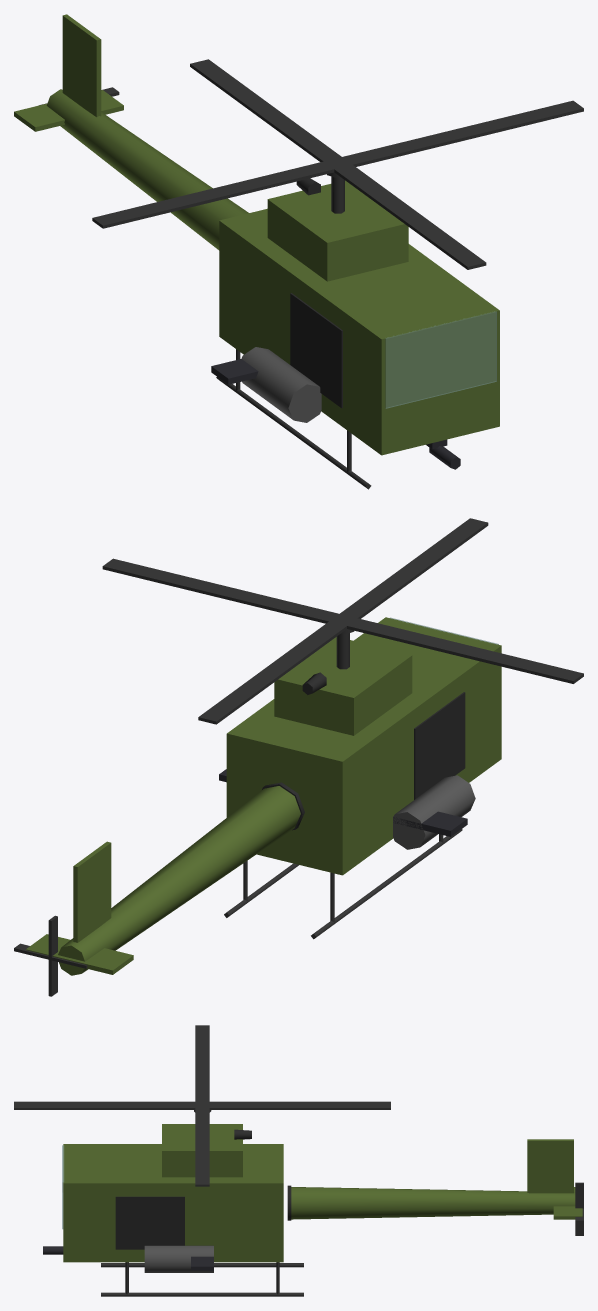
File: uh1c-gunship.glb
3 renders of one model, top to bottom at view 1: azimuth 30°, elevation 25°; view 2: azimuth 150°, elevation 25°; view 3: azimuth 270°, elevation 25°, orthographic. The views are drawn at different scales.
Visible parts, largest first — view 1: Mesh_Fuselage, Mesh_EngineCowling, Mesh_CockpitGlass, Mesh_TailBoom, Mesh_MainRotor2, Mesh_MainRotor1, Mesh_DoorLeft, Mesh_RocketPodLeft, Mesh_VerticalFin, Mesh_HorizontalStab, Mesh_SkidLeft, Mesh_PylonLeft; view 2: Mesh_Fuselage, Mesh_TailBoom, Mesh_EngineCowling, Mesh_MainRotor2, Mesh_MainRotor1, Mesh_DoorLeft, Mesh_VerticalFin, Mesh_RocketPodLeft, Mesh_HorizontalStab, Mesh_SkidLeft, Mesh_PylonLeft, Mesh_TailRotor1; view 3: Mesh_Fuselage, Mesh_TailBoom, Mesh_DoorRight, Mesh_EngineCowling, Mesh_MainRotor1, Mesh_VerticalFin, Mesh_MainRotor2, Mesh_RocketPodRight, Mesh_SkidRight, Mesh_SkidLeft, Mesh_HorizontalStab, Mesh_TailRotor1.
Part boxes in pixels (x1=…): Mesh_Fuselage: x1=219, y1=208, x2=499, y2=455; Mesh_EngineCowling: x1=267, y1=180, x2=408, y2=281; Mesh_CockpitGlass: x1=385, y1=311, x2=496, y2=408; Mesh_TailBoom: x1=46, y1=89, x2=248, y2=250; Mesh_MainRotor2: x1=92, y1=100, x2=583, y2=228; Mesh_MainRotor1: x1=190, y1=59, x2=486, y2=269; Mesh_DoorLeft: x1=290, y1=293, x2=342, y2=408; Mesh_RocketPodLeft: x1=241, y1=347, x2=321, y2=422; Mesh_VerticalFin: x1=62, y1=14, x2=101, y2=117; Mesh_HorizontalStab: x1=14, y1=90, x2=123, y2=131; Mesh_SkidLeft: x1=216, y1=377, x2=371, y2=489; Mesh_PylonLeft: x1=211, y1=359, x2=258, y2=384; Mesh_Fuselage: x1=226, y1=617, x2=501, y2=875; Mesh_TailBoom: x1=58, y1=786, x2=300, y2=975; Mesh_EngineCowling: x1=274, y1=637, x2=412, y2=735; Mesh_MainRotor2: x1=102, y1=558, x2=583, y2=683; Mesh_MainRotor1: x1=198, y1=518, x2=488, y2=724; Mesh_DoorLeft: x1=414, y1=692, x2=465, y2=799; Mesh_VerticalFin: x1=73, y1=841, x2=111, y2=942; Mesh_RocketPodLeft: x1=393, y1=775, x2=475, y2=849; Mesh_HorizontalStab: x1=26, y1=934, x2=133, y2=974; Mesh_SkidLeft: x1=311, y1=829, x2=462, y2=939; Mesh_PylonLeft: x1=393, y1=811, x2=467, y2=836; Mesh_TailRotor1: x1=48, y1=915, x2=57, y2=996; Mesh_Fuselage: x1=63, y1=1144, x2=283, y2=1262; Mesh_TailBoom: x1=291, y1=1187, x2=575, y2=1219; Mesh_DoorRight: x1=115, y1=1196, x2=184, y2=1249; Mesh_EngineCowling: x1=162, y1=1124, x2=242, y2=1177; Mesh_MainRotor1: x1=14, y1=1101, x2=390, y2=1109; Mesh_VerticalFin: x1=527, y1=1139, x2=573, y2=1193; Mesh_MainRotor2: x1=195, y1=1025, x2=209, y2=1186; Mesh_RocketPodRight: x1=144, y1=1245, x2=213, y2=1272; Mesh_SkidRight: x1=101, y1=1292, x2=303, y2=1296; Mesh_SkidLeft: x1=101, y1=1263, x2=303, y2=1267; Mesh_HorizontalStab: x1=553, y1=1187, x2=582, y2=1219; Mesh_TailRotor1: x1=575, y1=1182, x2=583, y2=1235.
Size of the model in its own units: 6.5 by 3.37 by 9.83.
